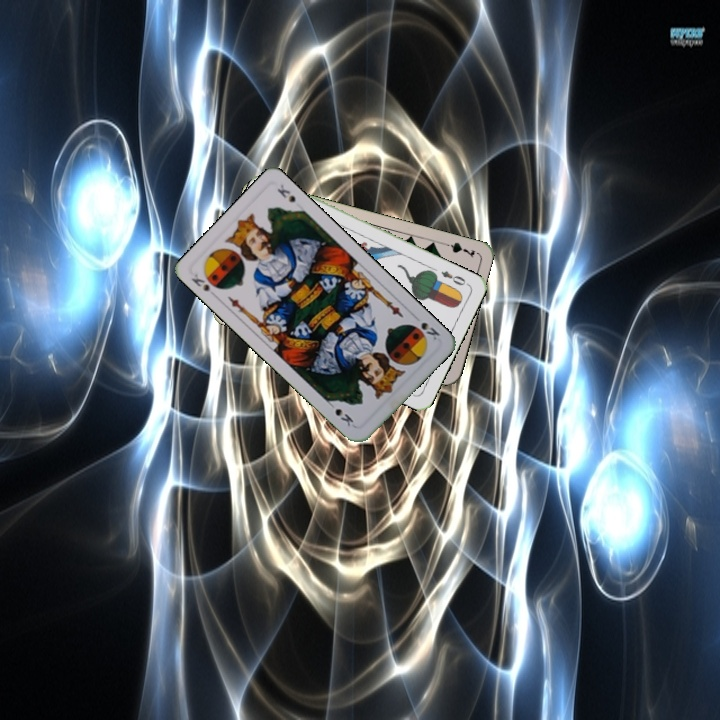EO: (437, 267, 468, 288)
G7: (438, 238, 478, 259)
SK: (187, 270, 223, 300), (417, 318, 443, 343)
